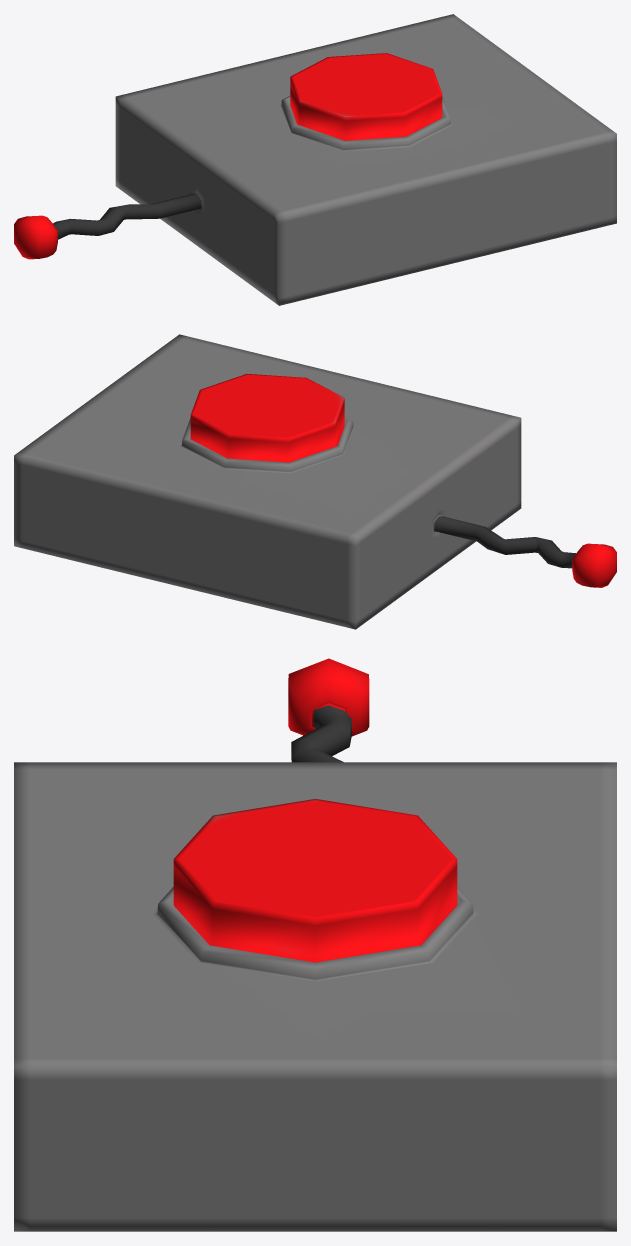
Rendered from Remote.fbx.
The picture shows the model from 3 angles, top to bottom: view 1: azimuth 30°, elevation 25°; view 2: azimuth 150°, elevation 25°; view 3: azimuth 270°, elevation 25°; orthographic projection. The views are drawn at different scales.
Visible parts, largest first — view 1: Cube; view 2: Cube; view 3: Cube.
Boxes of the visible parts, box(x1,y1,x2,y2) form: Cube: box(14, 14, 616, 305); Cube: box(14, 334, 616, 629); Cube: box(14, 658, 616, 1231).
Bounding box in the file's own units: 359 × 80 × 198.
Materials: 1 (1 with a texture image).
